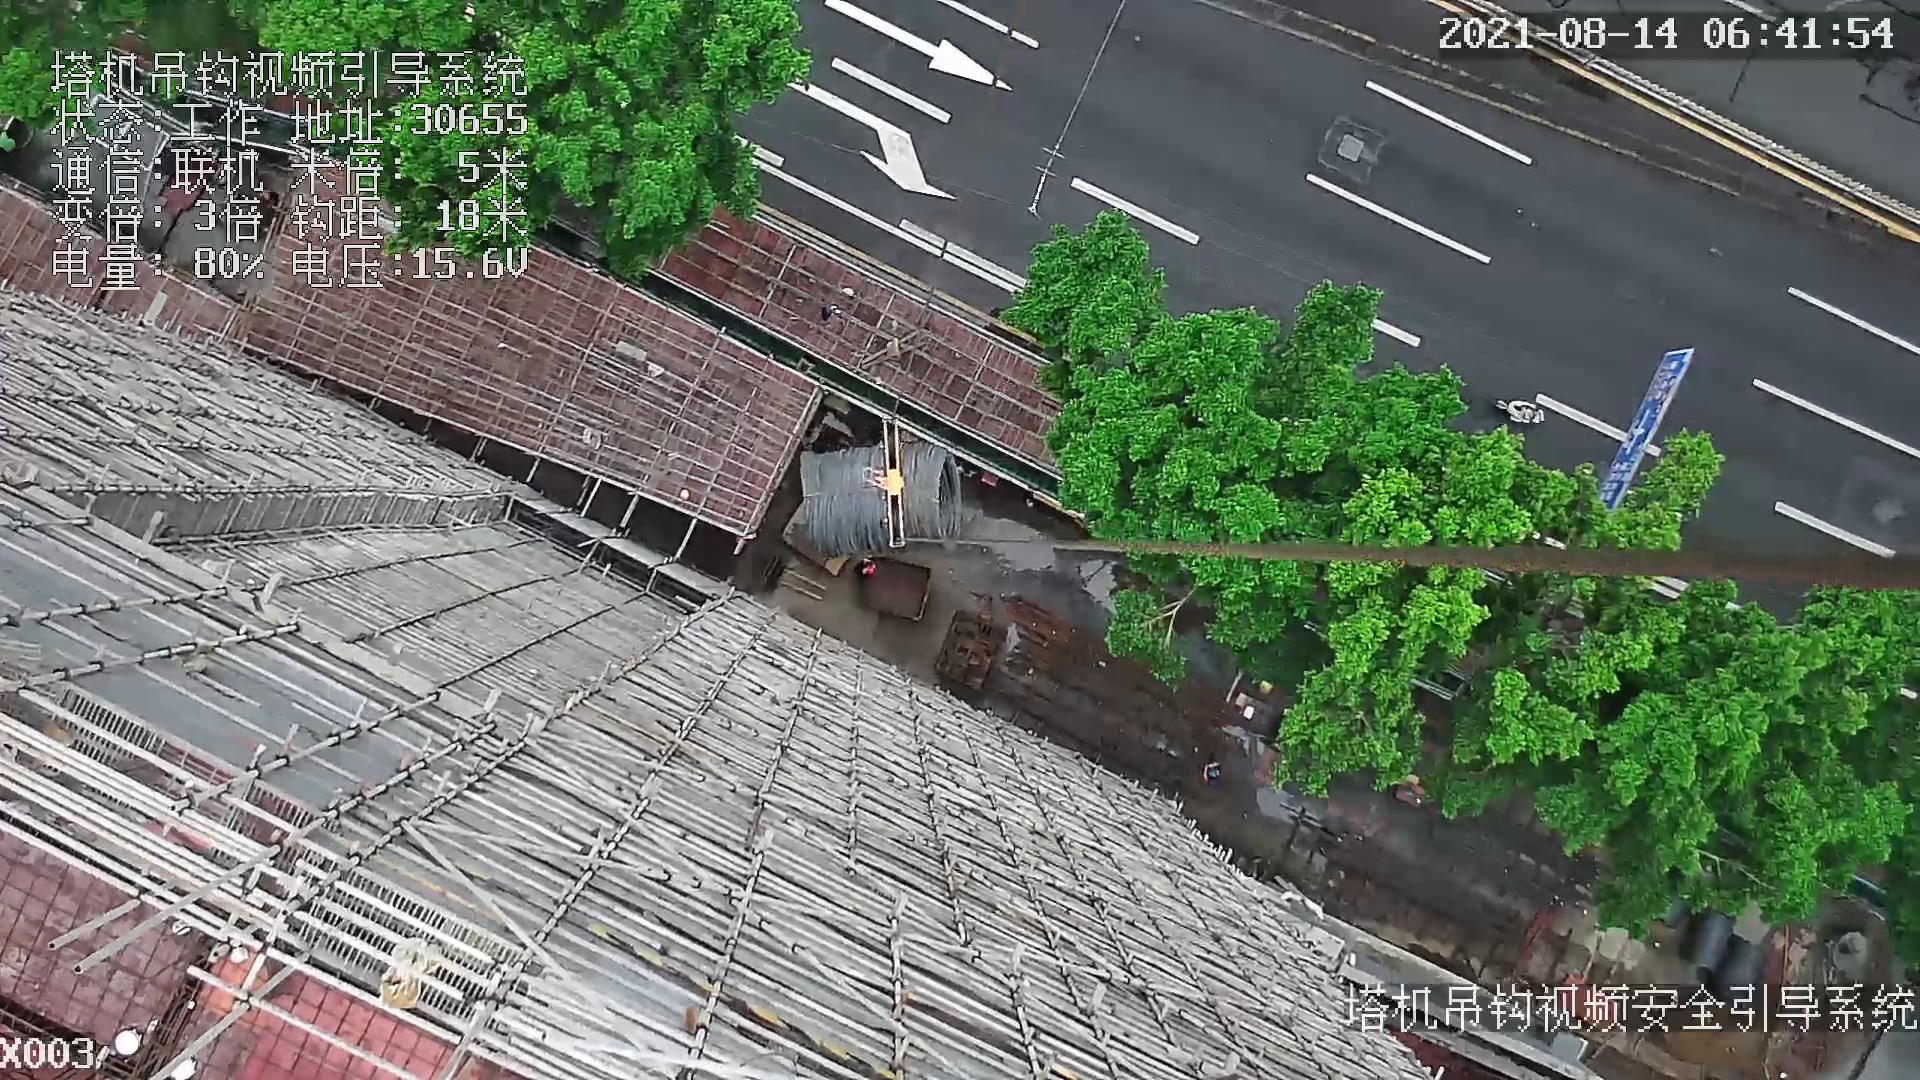person: (1496, 395, 1547, 428), (1201, 758, 1223, 783), (854, 557, 876, 578)
